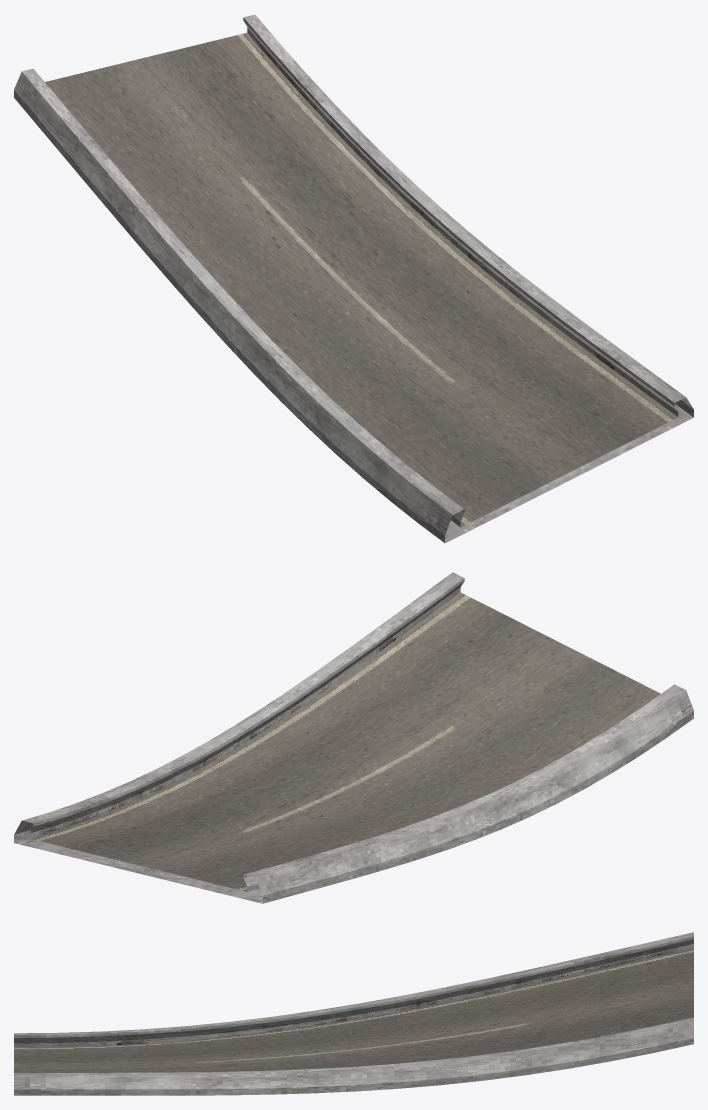
File: road-Straight-HalfBankedLeft-BiSlopeUp-Up2-Center-Size3.glb
The picture shows the model from 3 angles, top to bottom: view 1: azimuth 30°, elevation 25°; view 2: azimuth 150°, elevation 25°; view 3: azimuth 270°, elevation 25°; orthographic projection. The views are drawn at different scales.
Visible parts, largest first — view 1: road-Straight-HalfBankedLeft-BiSlopeUp-Up2-Center-Size3; view 2: road-Straight-HalfBankedLeft-BiSlopeUp-Up2-Center-Size3; view 3: road-Straight-HalfBankedLeft-BiSlopeUp-Up2-Center-Size3.
Part boxes in pixels (x1,y1,x2,y2): road-Straight-HalfBankedLeft-BiSlopeUp-Up2-Center-Size3: [14, 14, 693, 543]; road-Straight-HalfBankedLeft-BiSlopeUp-Up2-Center-Size3: [14, 572, 693, 903]; road-Straight-HalfBankedLeft-BiSlopeUp-Up2-Center-Size3: [14, 932, 693, 1095].
Bounding box in the file's own units: 1 × 0.5937 × 3.
2 materials, 2 textured.
